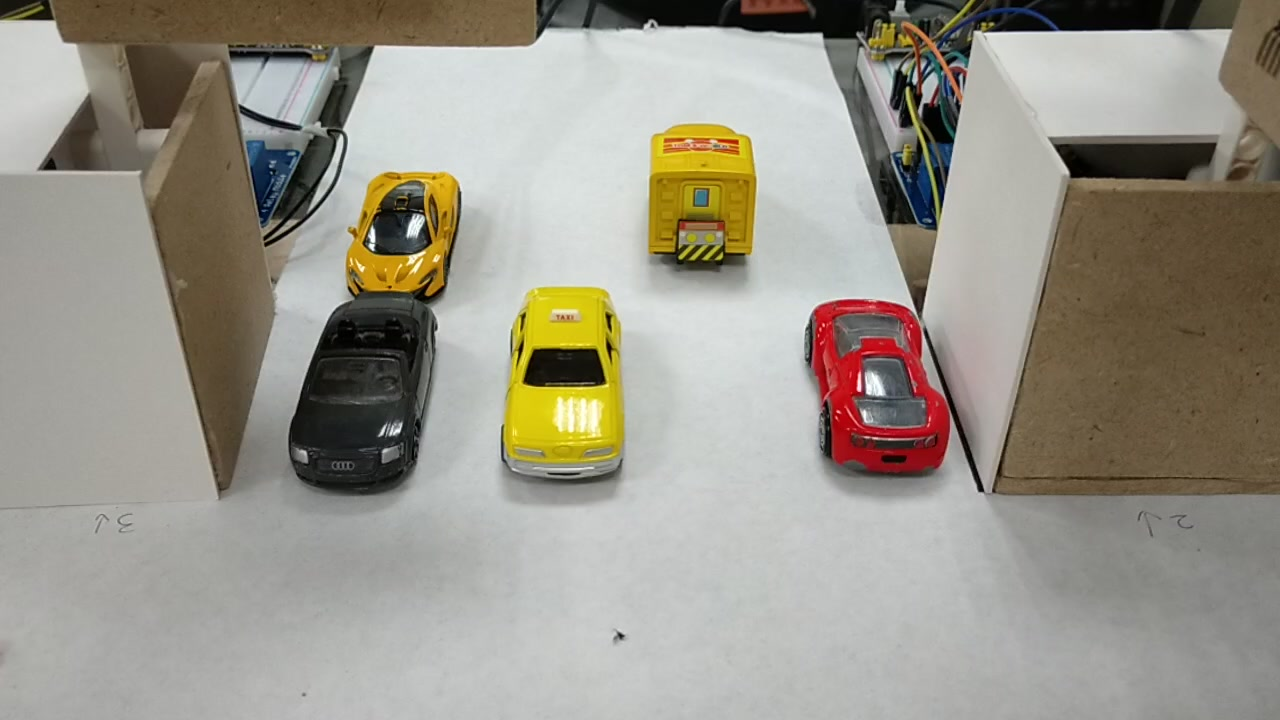car: (284, 300, 440, 486), (502, 279, 630, 484), (806, 303, 950, 479), (346, 166, 456, 292)
